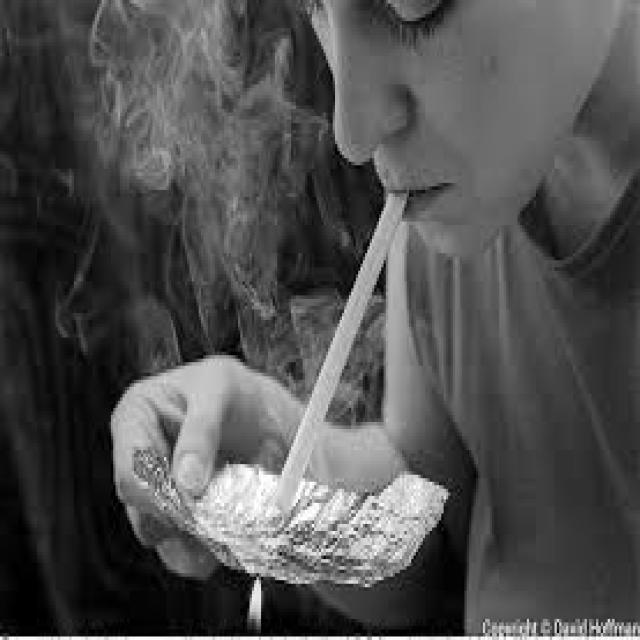Smoke: (95, 3, 311, 373)
